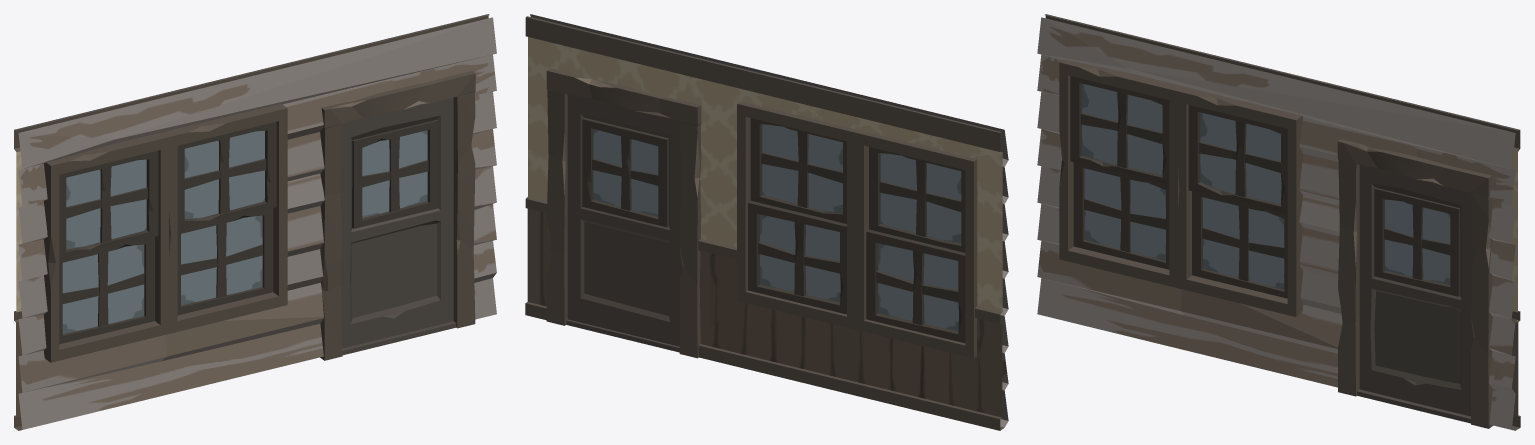
Rendered from SM_Bld_Single_Front_01.fbx.
The picture shows the model from 3 angles, left to right: view 1: azimuth 30°, elevation 25°; view 2: azimuth 150°, elevation 25°; view 3: azimuth 330°, elevation 25°; orthographic projection.
Parts seen in each view (by area): view 1: SM_Bld_Single_Front_01, SM_Building_Single_FrontDoor_01, SM_Building_Single_Front_Window_01, SM_Building_Single_FrontDoor_Window_01; view 2: SM_Bld_Single_Front_01, SM_Building_Single_FrontDoor_01, SM_Building_Single_Front_Window_01, SM_Building_Single_FrontDoor_Window_01; view 3: SM_Bld_Single_Front_01, SM_Building_Single_FrontDoor_01, SM_Building_Single_Front_Window_01, SM_Building_Single_FrontDoor_Window_01.
Part boxes in pixels (x1,y1,x2,y2): SM_Bld_Single_Front_01: (14,14,496,430); SM_Building_Single_FrontDoor_01: (339,97,453,348); SM_Building_Single_Front_Window_01: (62,130,264,334); SM_Building_Single_FrontDoor_Window_01: (362,130,427,218); SM_Bld_Single_Front_01: (525,14,1008,430); SM_Building_Single_FrontDoor_01: (567,94,682,346); SM_Building_Single_Front_Window_01: (760,124,961,331); SM_Building_Single_FrontDoor_Window_01: (593,129,658,216); SM_Bld_Single_Front_01: (1037,14,1520,430); SM_Building_Single_FrontDoor_01: (1359,165,1473,416); SM_Building_Single_Front_Window_01: (1082,83,1284,289); SM_Building_Single_FrontDoor_Window_01: (1385,199,1450,284).
Size of the model in its own units: 500 by 300 by 23.46.
